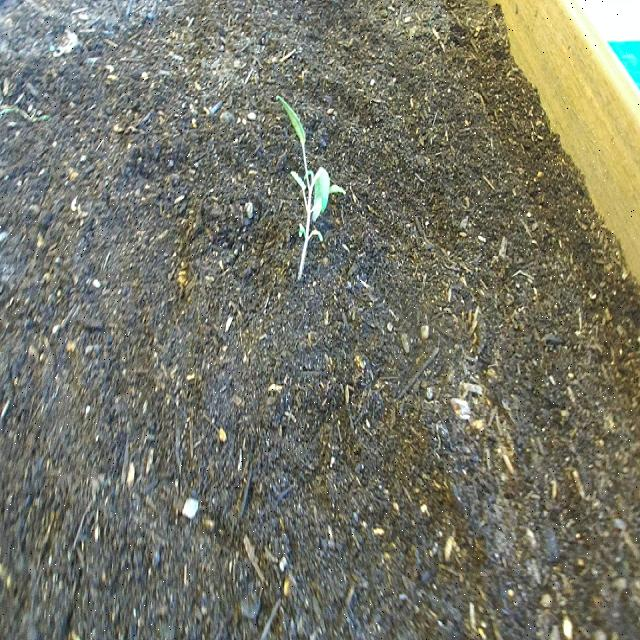Healthy: (275, 94, 347, 286)
